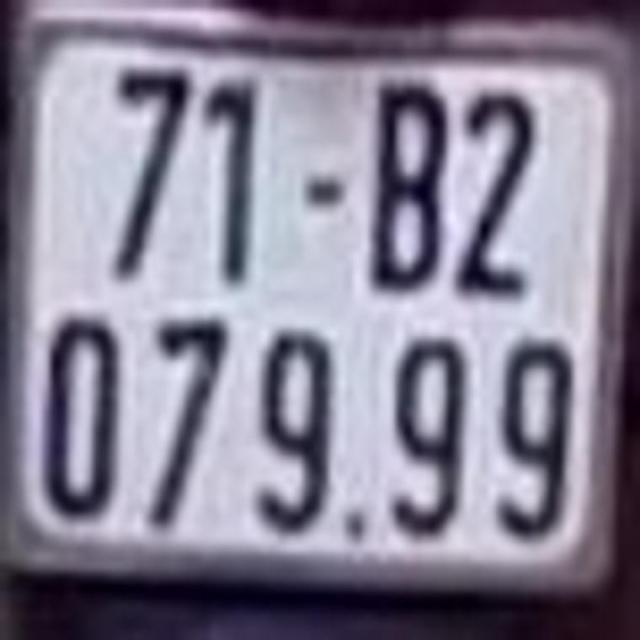0: (37, 306, 118, 511)
1: (201, 73, 257, 280)
2: (453, 78, 531, 302)
7: (101, 61, 191, 286), (142, 314, 228, 524)
9: (249, 322, 331, 529), (493, 330, 571, 545), (387, 328, 465, 539)
B: (366, 70, 446, 290)
